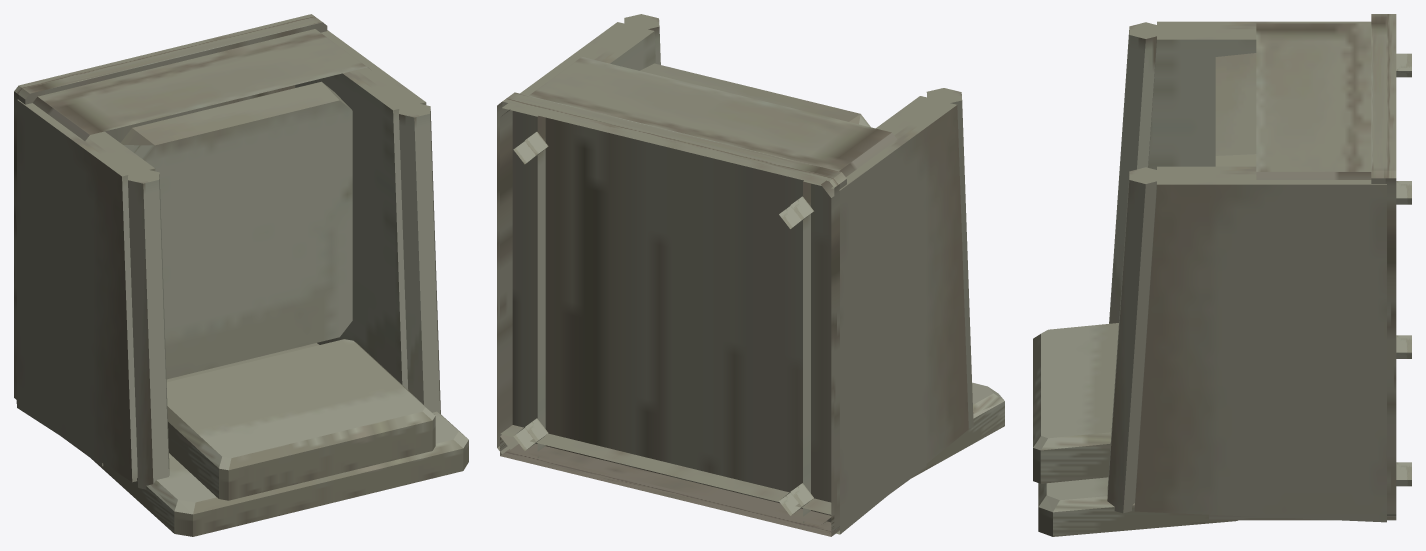
File: pz_chair_seating_indoor_03_light_blue_fidelity_r1.obj
3 views of the same model, side by side, from view 1: azimuth 30°, elevation 25°; view 2: azimuth 150°, elevation 25°; view 3: azimuth 270°, elevation 25° (orthographic). The views are drawn at different scales.
Parts seen in each view (by area): view 1: pz_chair_seating_indoor_03_light_blue__seat_0__seat, pz_chair_seating_indoor_03_light_blue__lazy_arm_panel_-1__arm, pz_chair_seating_indoor_03_light_blue__back_cushion_0__back, pz_chair_seating_indoor_03_light_blue__lazy_arm_panel_1__arm, pz_chair_seating_indoor_03_light_blue__lower_body__body, pz_chair_seating_indoor_03_light_blue__rear_shell__back, pz_chair_seating_indoor_03_light_blue__sloping_rail_-1__arm, pz_chair_seating_indoor_03_light_blue__sloping_rail_1__arm, pz_chair_seating_indoor_03_light_blue__low_plinth__body, pz_chair_seating_indoor_03_light_blue__rear_body_bridge__body; view 2: pz_chair_seating_indoor_03_light_blue__low_plinth__body, pz_chair_seating_indoor_03_light_blue__lazy_arm_panel_-1__arm, pz_chair_seating_indoor_03_light_blue__lower_body__body, pz_chair_seating_indoor_03_light_blue__lazy_arm_panel_1__arm, pz_chair_seating_indoor_03_light_blue__rear_body_bridge__body, pz_chair_seating_indoor_03_light_blue__seat_0__seat, pz_chair_seating_indoor_03_light_blue__sloping_rail_-1__arm, pz_chair_seating_indoor_03_light_blue__rear_shell__back, pz_chair_seating_indoor_03_light_blue__sloping_rail_1__arm, pz_chair_seating_indoor_03_light_blue__foot_1_1__frame, pz_chair_seating_indoor_03_light_blue__foot_-1_1__frame, pz_chair_seating_indoor_03_light_blue__foot_1_-1__frame (+1 smaller); view 3: pz_chair_seating_indoor_03_light_blue__lazy_arm_panel_1__arm, pz_chair_seating_indoor_03_light_blue__lower_body__body, pz_chair_seating_indoor_03_light_blue__back_cushion_0__back, pz_chair_seating_indoor_03_light_blue__lazy_arm_panel_-1__arm, pz_chair_seating_indoor_03_light_blue__sloping_rail_1__arm, pz_chair_seating_indoor_03_light_blue__low_plinth__body, pz_chair_seating_indoor_03_light_blue__sloping_rail_-1__arm, pz_chair_seating_indoor_03_light_blue__rear_shell__back, pz_chair_seating_indoor_03_light_blue__seat_0__seat, pz_chair_seating_indoor_03_light_blue__rear_body_bridge__body.
Part boxes in pixels (x1,y1,x2,y2): pz_chair_seating_indoor_03_light_blue__seat_0__seat: [120, 81, 352, 379]; pz_chair_seating_indoor_03_light_blue__lazy_arm_panel_-1__arm: [17, 99, 155, 482]; pz_chair_seating_indoor_03_light_blue__back_cushion_0__back: [166, 339, 435, 500]; pz_chair_seating_indoor_03_light_blue__lazy_arm_panel_1__arm: [295, 30, 426, 389]; pz_chair_seating_indoor_03_light_blue__lower_body__body: [33, 29, 370, 140]; pz_chair_seating_indoor_03_light_blue__rear_shell__back: [91, 411, 468, 536]; pz_chair_seating_indoor_03_light_blue__sloping_rail_-1__arm: [128, 169, 169, 489]; pz_chair_seating_indoor_03_light_blue__sloping_rail_1__arm: [399, 102, 440, 413]; pz_chair_seating_indoor_03_light_blue__low_plinth__body: [14, 14, 327, 399]; pz_chair_seating_indoor_03_light_blue__rear_body_bridge__body: [16, 343, 319, 466]; pz_chair_seating_indoor_03_light_blue__low_plinth__body: [497, 92, 846, 533]; pz_chair_seating_indoor_03_light_blue__lazy_arm_panel_-1__arm: [803, 96, 968, 534]; pz_chair_seating_indoor_03_light_blue__lower_body__body: [500, 57, 897, 525]; pz_chair_seating_indoor_03_light_blue__lazy_arm_panel_1__arm: [502, 22, 655, 457]; pz_chair_seating_indoor_03_light_blue__rear_body_bridge__body: [500, 425, 926, 536]; pz_chair_seating_indoor_03_light_blue__seat_0__seat: [640, 63, 870, 127]; pz_chair_seating_indoor_03_light_blue__sloping_rail_-1__arm: [926, 88, 973, 428]; pz_chair_seating_indoor_03_light_blue__rear_shell__back: [912, 382, 1004, 477]; pz_chair_seating_indoor_03_light_blue__sloping_rail_1__arm: [624, 14, 660, 64]; pz_chair_seating_indoor_03_light_blue__foot_1_1__frame: [513, 132, 548, 164]; pz_chair_seating_indoor_03_light_blue__foot_-1_1__frame: [779, 196, 813, 228]; pz_chair_seating_indoor_03_light_blue__foot_1_-1__frame: [513, 418, 548, 450]; pz_chair_seating_indoor_03_light_blue__lazy_arm_panel_1__arm: [1134, 166, 1386, 522]; pz_chair_seating_indoor_03_light_blue__lower_body__body: [1256, 23, 1371, 179]; pz_chair_seating_indoor_03_light_blue__back_cushion_0__back: [1033, 323, 1118, 483]; pz_chair_seating_indoor_03_light_blue__lazy_arm_panel_-1__arm: [1148, 21, 1371, 169]; pz_chair_seating_indoor_03_light_blue__sloping_rail_1__arm: [1107, 167, 1162, 513]; pz_chair_seating_indoor_03_light_blue__low_plinth__body: [1371, 14, 1396, 515]; pz_chair_seating_indoor_03_light_blue__sloping_rail_-1__arm: [1109, 22, 1162, 323]; pz_chair_seating_indoor_03_light_blue__rear_shell__back: [1038, 477, 1237, 536]; pz_chair_seating_indoor_03_light_blue__seat_0__seat: [1215, 53, 1256, 166]; pz_chair_seating_indoor_03_light_blue__rear_body_bridge__body: [1209, 514, 1396, 520].
Bounding box in the file's own units: 0.8624 × 0.9069 × 0.8484.
1 material, 1 textured.
